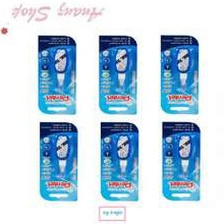book: (158, 120, 202, 203), (158, 32, 201, 116), (36, 33, 79, 116), (96, 33, 139, 116), (98, 119, 140, 203), (38, 120, 79, 203)
correction_fluid: (53, 131, 74, 181), (51, 45, 71, 94), (112, 45, 132, 94), (114, 133, 134, 178), (176, 132, 195, 178), (174, 46, 192, 93)
